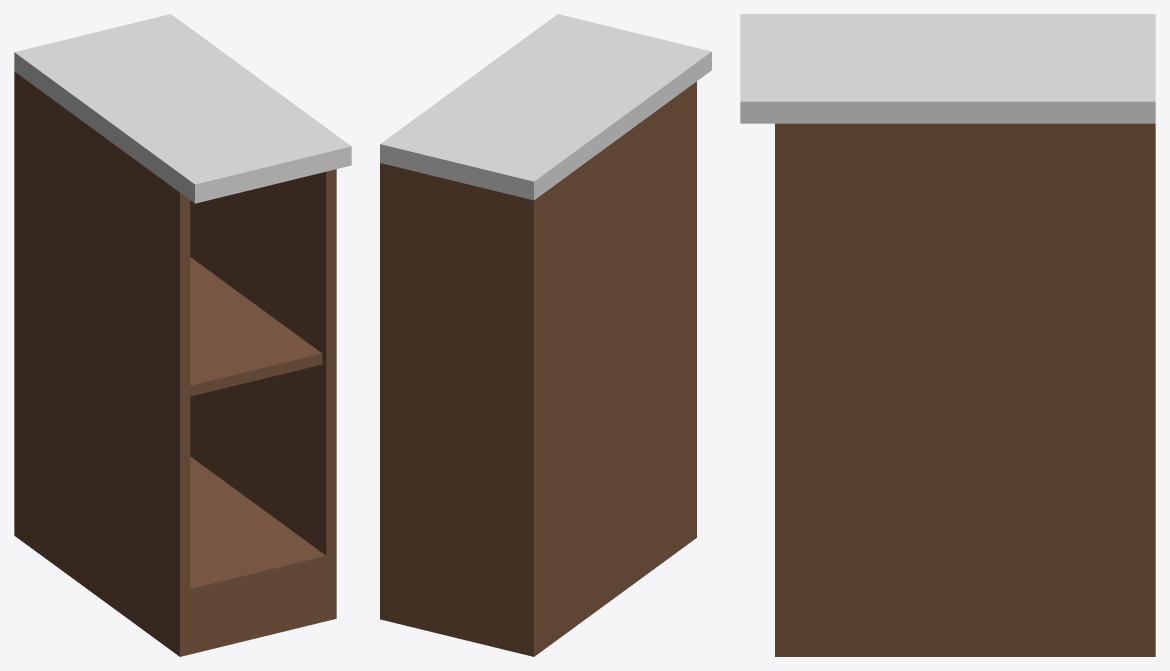
The model's file is Kitchen1_C2_04.fbx.
3 renders of one model, left to right at view 1: azimuth 30°, elevation 25°; view 2: azimuth 150°, elevation 25°; view 3: azimuth 270°, elevation 25°, orthographic. The views are drawn at different scales.
Visible parts, largest first — view 1: Kitchen1_C2_04; view 2: Kitchen1_C2_04; view 3: Kitchen1_C2_04.
Part boxes in pixels (<box>): Kitchen1_C2_04: <box>14,14,351,656</box>; Kitchen1_C2_04: <box>380,14,711,656</box>; Kitchen1_C2_04: <box>740,14,1155,656</box>.
Size of the model in its own units: 30 by 88.5 by 60.
